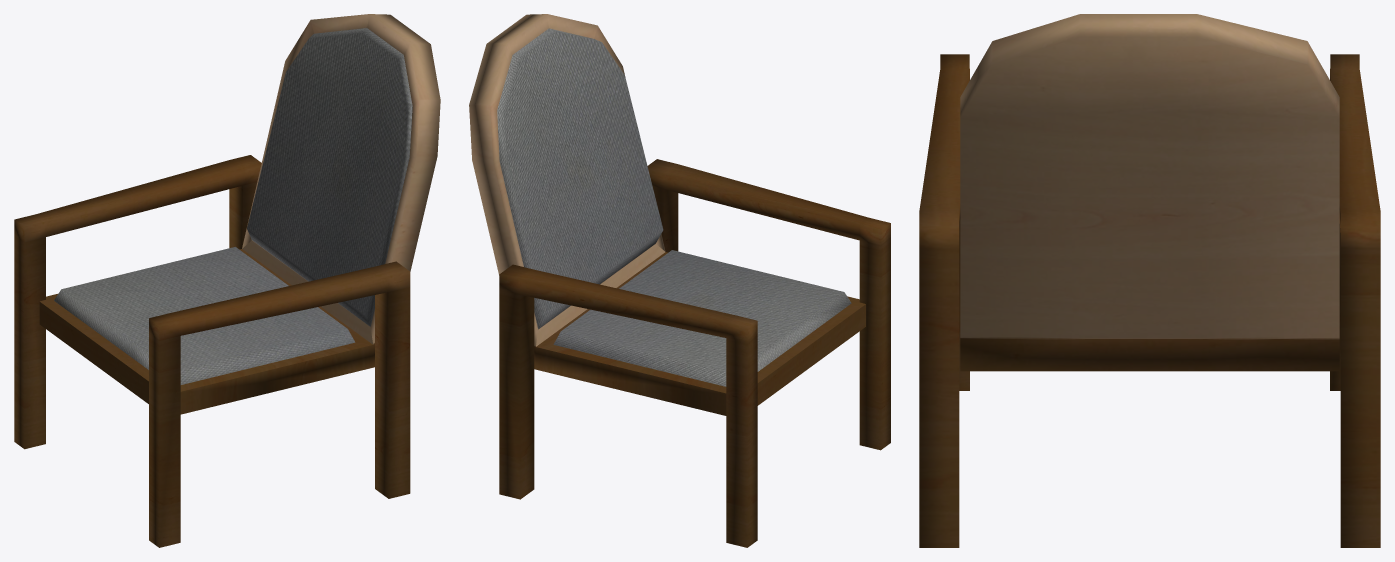
File: Chair.fbx
3 renders of one model, left to right at view 1: azimuth 30°, elevation 25°; view 2: azimuth 150°, elevation 25°; view 3: azimuth 270°, elevation 25°, orthographic. The views are drawn at different scales.
Visible parts, largest first — view 1: Hospital_Room:chair; view 2: Hospital_Room:chair; view 3: Hospital_Room:chair.
Part boxes in pixels (x1,y1,x2,y2): Hospital_Room:chair: [14, 14, 440, 547]; Hospital_Room:chair: [469, 14, 890, 547]; Hospital_Room:chair: [919, 14, 1380, 547].
Size of the model in its own units: 5.98 by 7.07 by 5.16.
